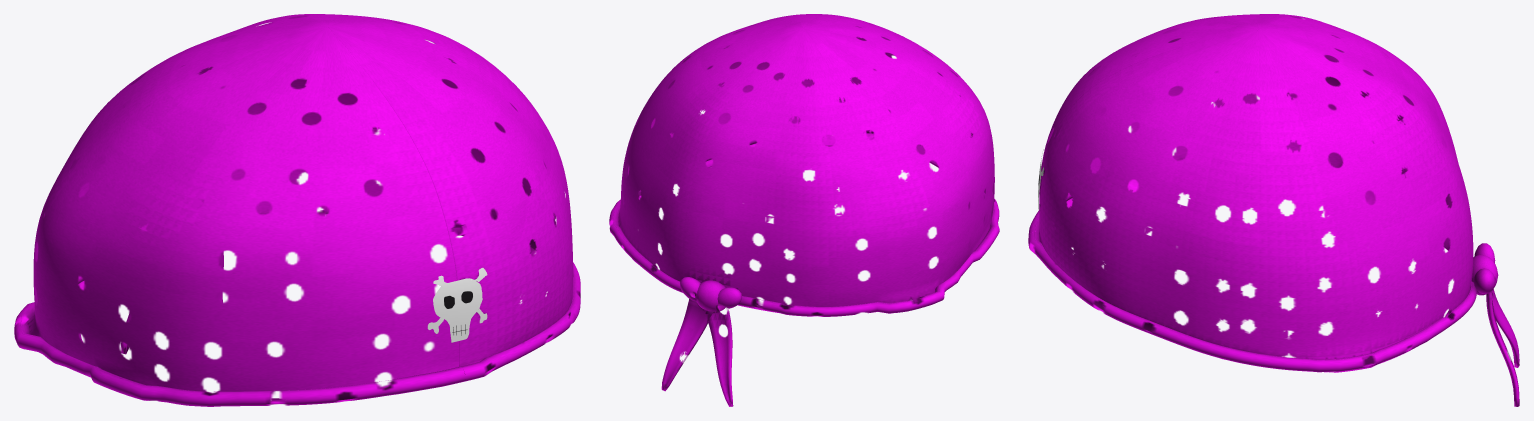
Rendered from hat_bandana_male_hi.glb.
The picture shows the model from 3 angles, left to right: view 1: azimuth 30°, elevation 25°; view 2: azimuth 150°, elevation 25°; view 3: azimuth 270°, elevation 25°; orthographic projection. The views are drawn at different scales.
Parts seen in each view (by area): view 1: hat_bandana_hi; view 2: hat_bandana_hi; view 3: hat_bandana_hi.
Boxes of the visible parts, <box> form: hat_bandana_hi: <box>14,14,580,406</box>; hat_bandana_hi: <box>609,14,999,406</box>; hat_bandana_hi: <box>1028,14,1519,406</box>.
Size of the model in its own units: 0.6245 by 0.5155 by 0.6413.
1 material, 1 textured.
